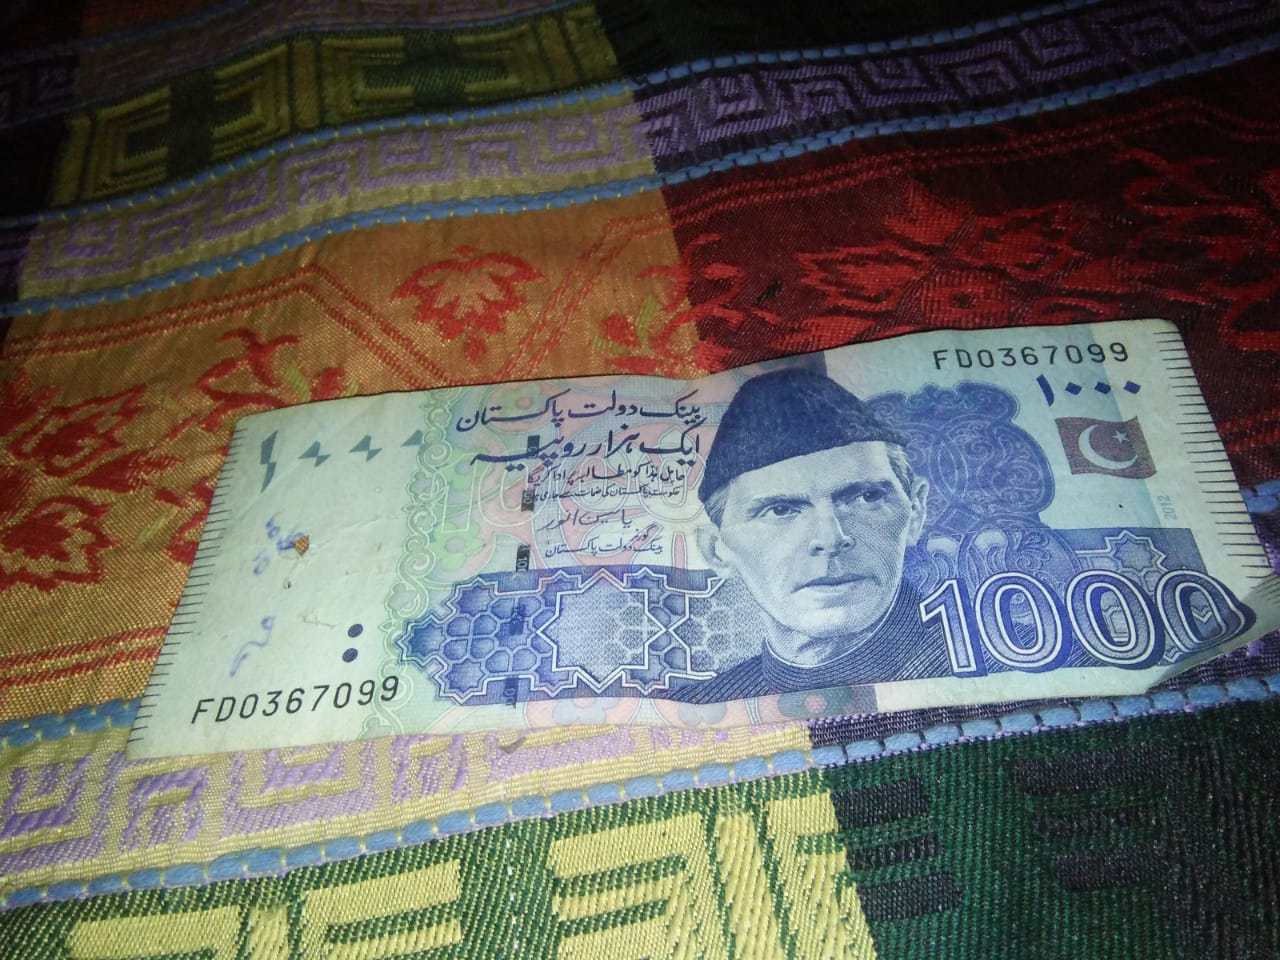1000 rupee: (84, 310, 1263, 776)
